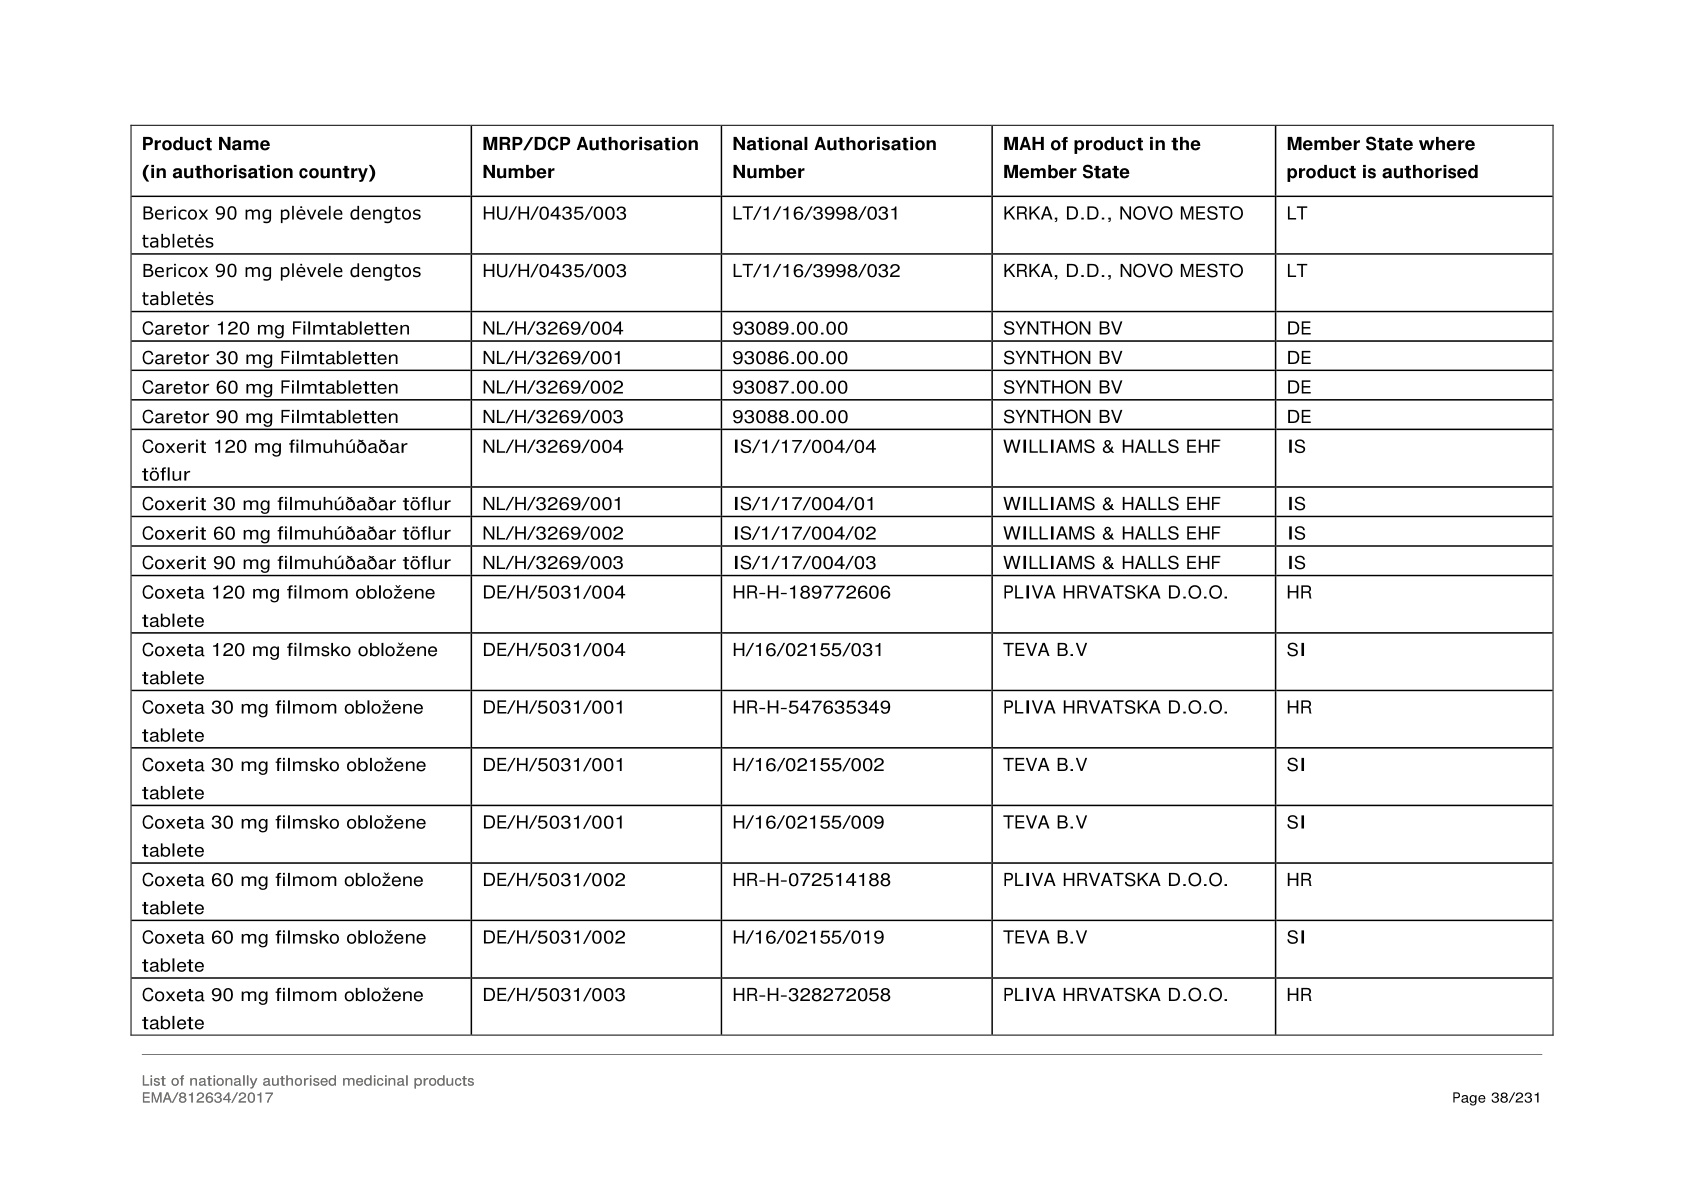full_lined: (130, 122, 1554, 1038)
